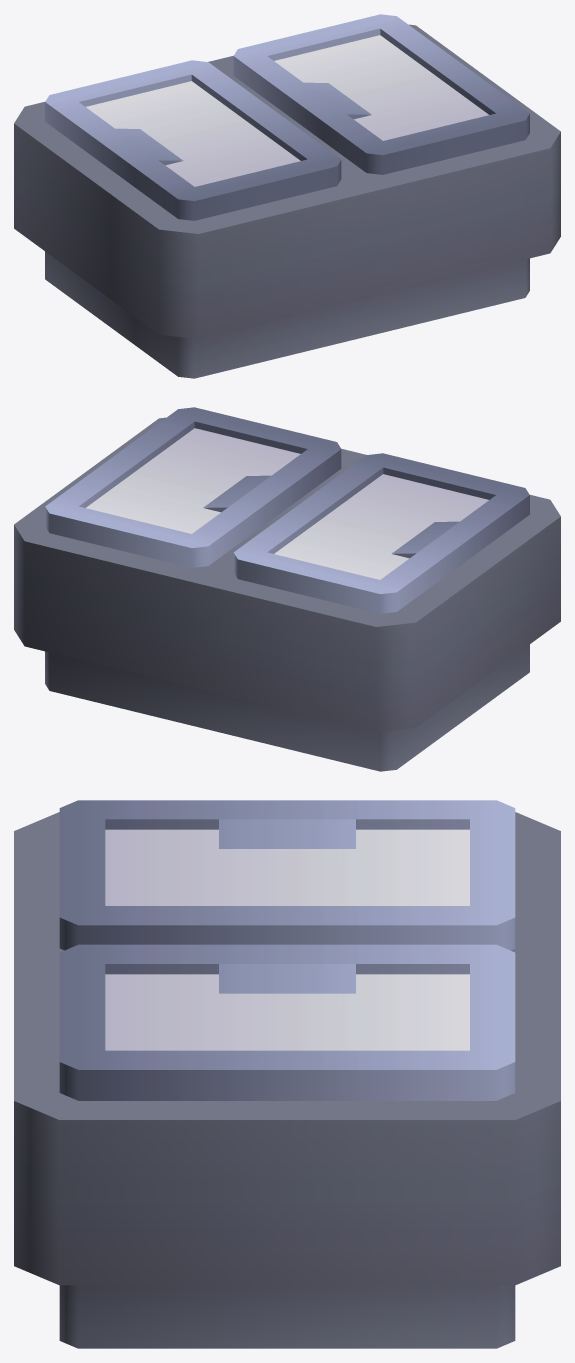
The model's file is freezer.glb.
3 renders of one model, top to bottom at view 1: azimuth 30°, elevation 25°; view 2: azimuth 150°, elevation 25°; view 3: azimuth 270°, elevation 25°, orthographic. The views are drawn at different scales.
Visible parts, largest first — view 1: freezer; view 2: freezer; view 3: freezer.
Part boxes in pixels (x1,y1,x2,y2): freezer: [14, 14, 560, 378]; freezer: [14, 407, 560, 771]; freezer: [14, 800, 560, 1348].
Bounding box in the file's own units: 0.8 × 0.3375 × 0.6.
Materials: 1 (1 with a texture image).
